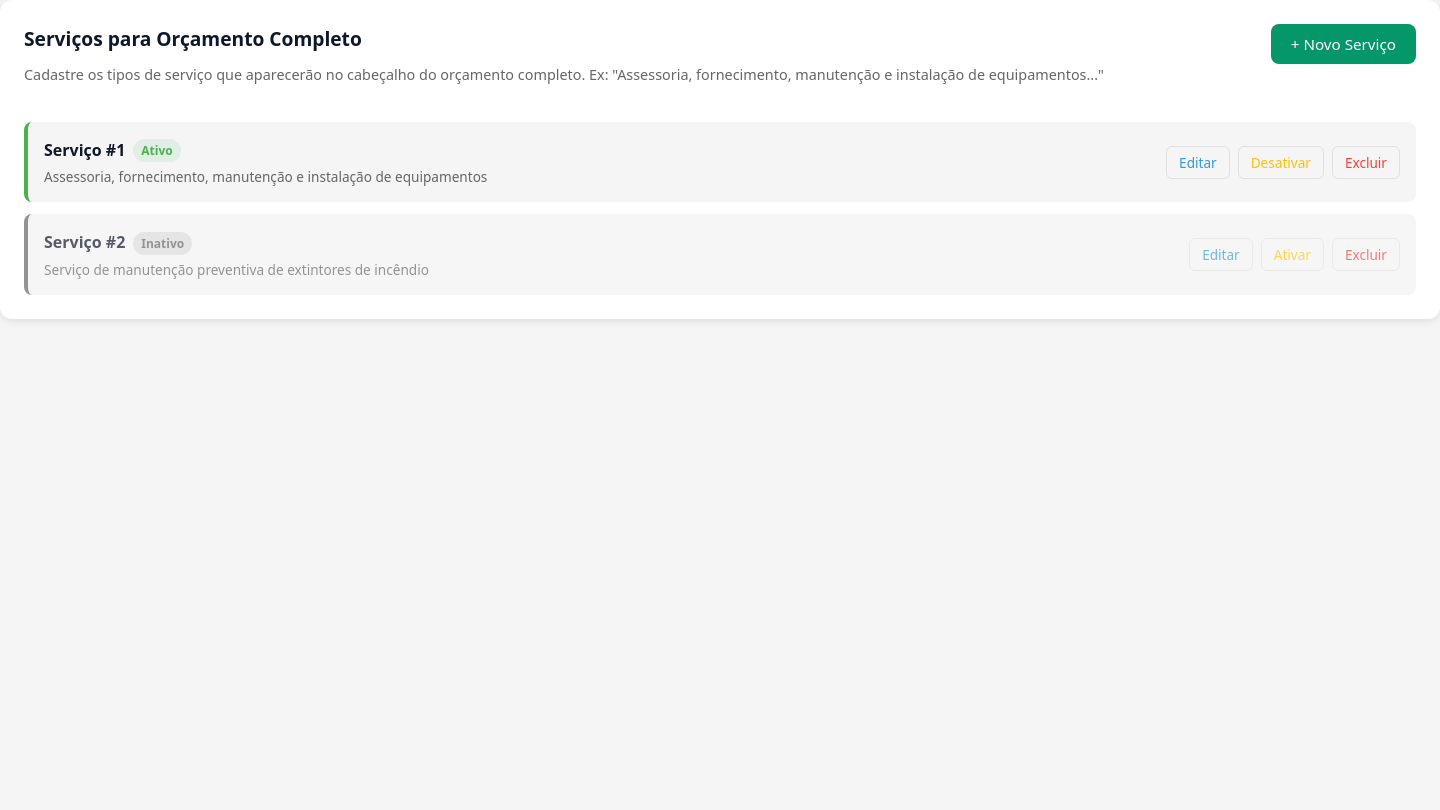
Test: ServicosTab › Modal de novo serviço › deve habilitar botão cadastrar com descrição válida
Click the button "+ Novo Serviço" at (1343, 44), box [1271,24,1416,64]
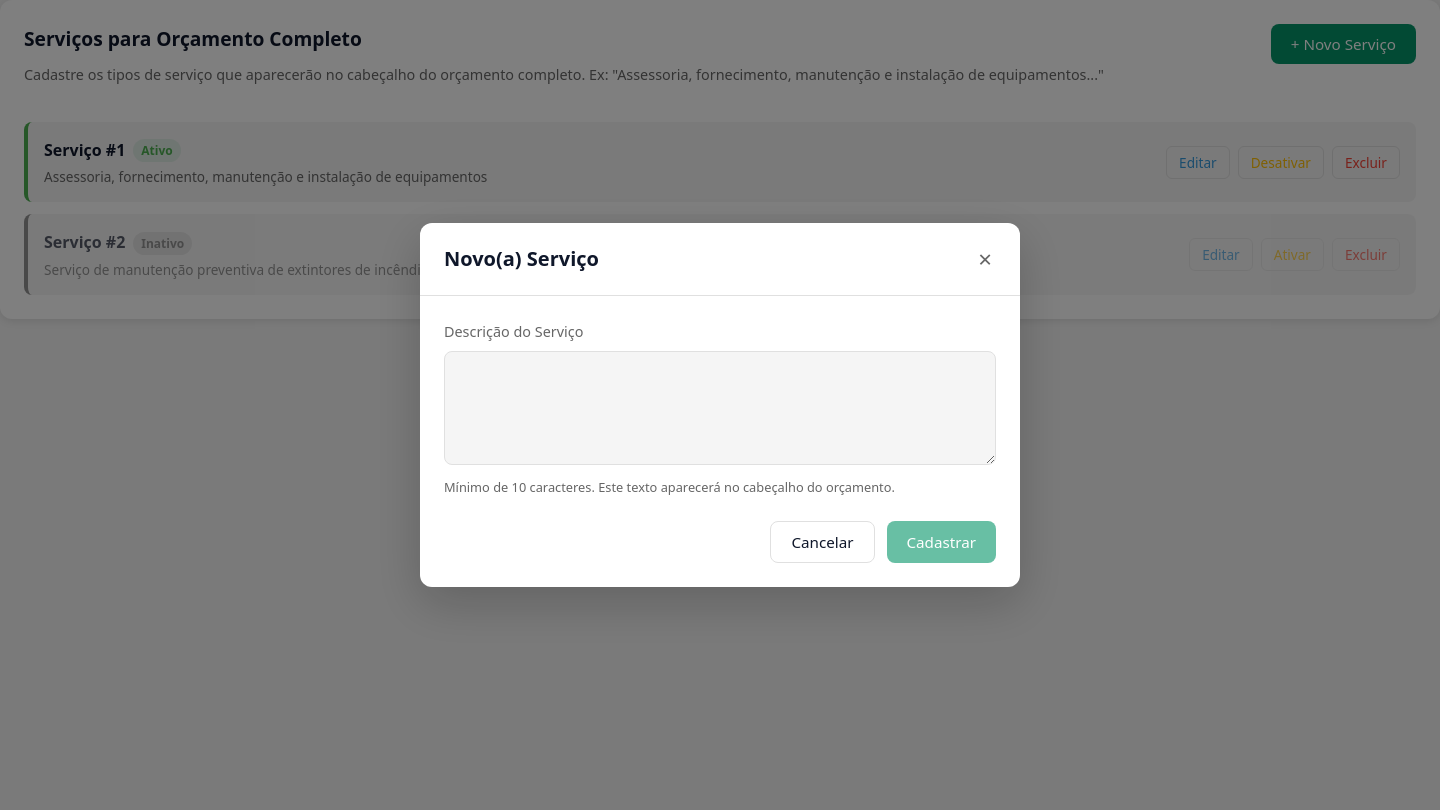
Check: the heading "Novo(a) Serviço" is shown, box [444,243,599,275]
Type "Descrição válida com mais de 10 caracteres" into the text box at (720, 408), box [444,351,996,465]
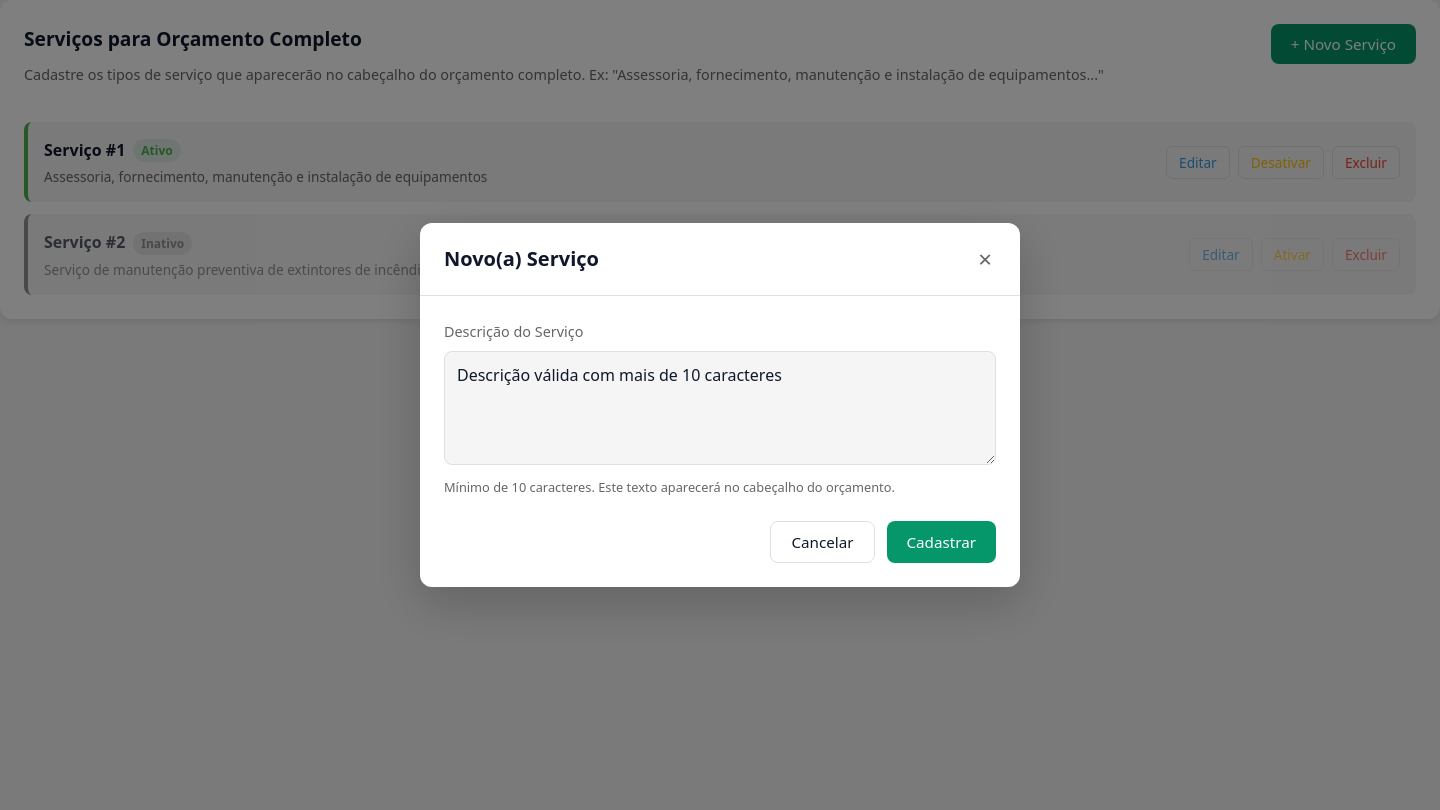
Check: the button "Cadastrar" is enabled, box [886,521,996,563]
